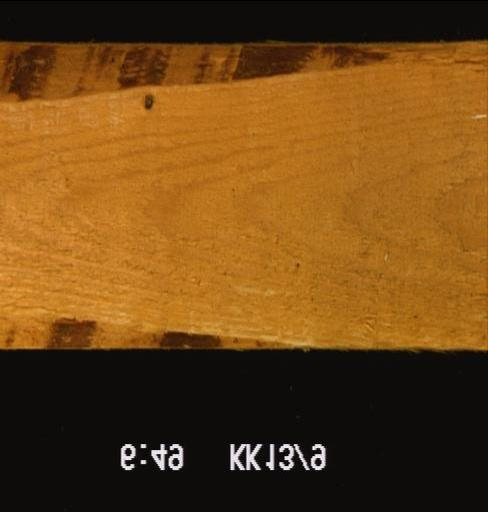small_knot: (136, 92, 155, 112)
wave: (0, 41, 486, 103), (0, 310, 311, 350)
